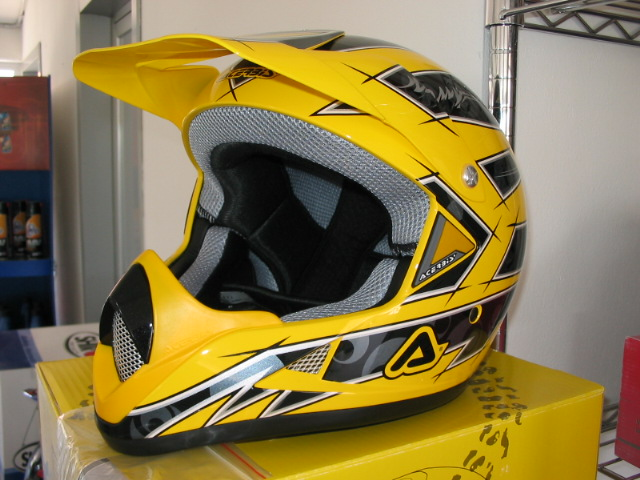helmet: (98, 32, 537, 400)
